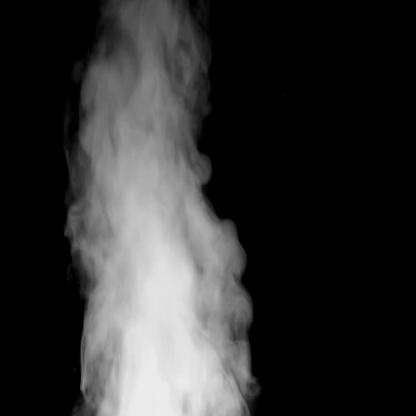smoke: (56, 0, 253, 415)
